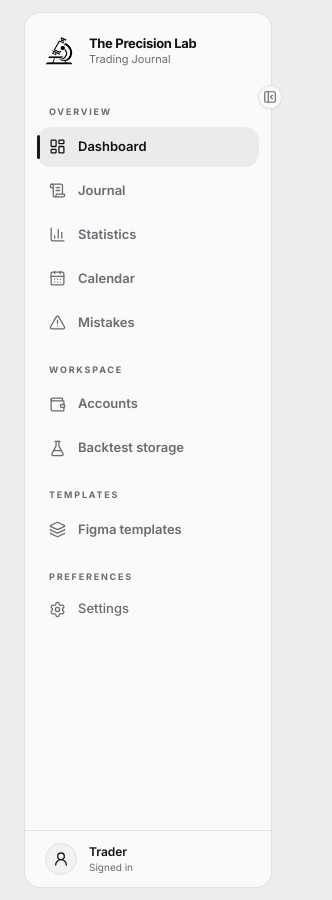
workspace navigation › resizes to the compact floating rail and navigates to existing app routes
The width and height of the screenshot is (332, 900).
Press the mouse on the element named "Resize sidebar" at (271, 450), box [265,13,277,887]
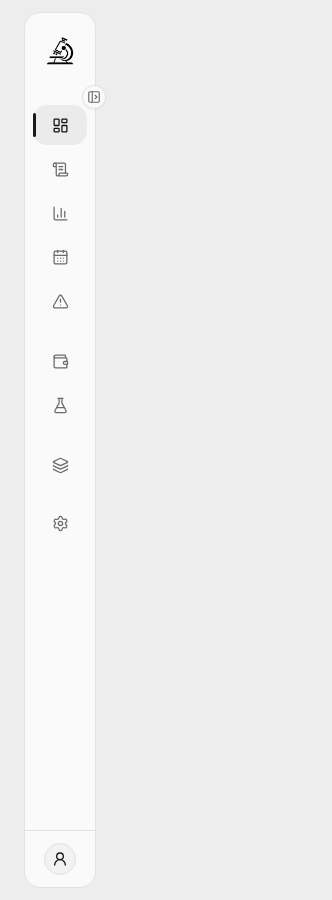
Click the link named "Accounts" at (60, 361), box [33,341,87,381]
(page scrolled)
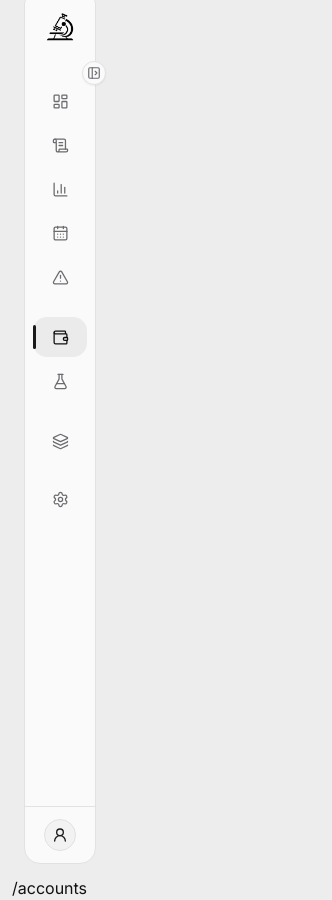
expect the text named "Current route" reads "/accounts": met, box [12,878,87,898]
